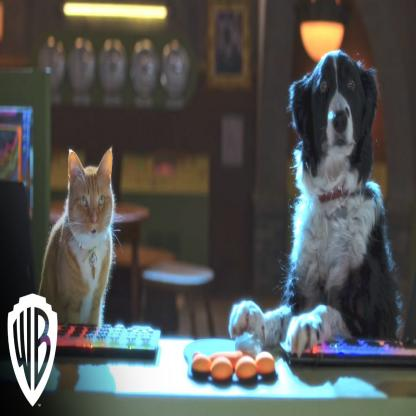cat: (41, 126, 156, 288)
dog: (280, 36, 404, 228)
